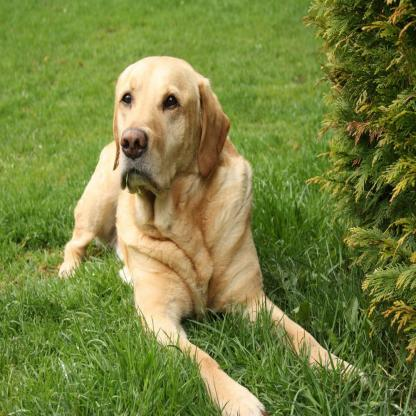Labarador Retriever: (58, 54, 367, 416)
